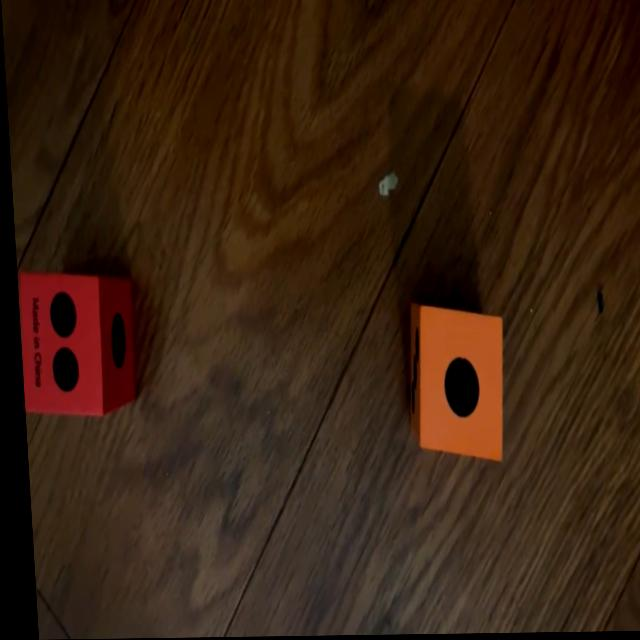red_block: (13, 274, 134, 418)
